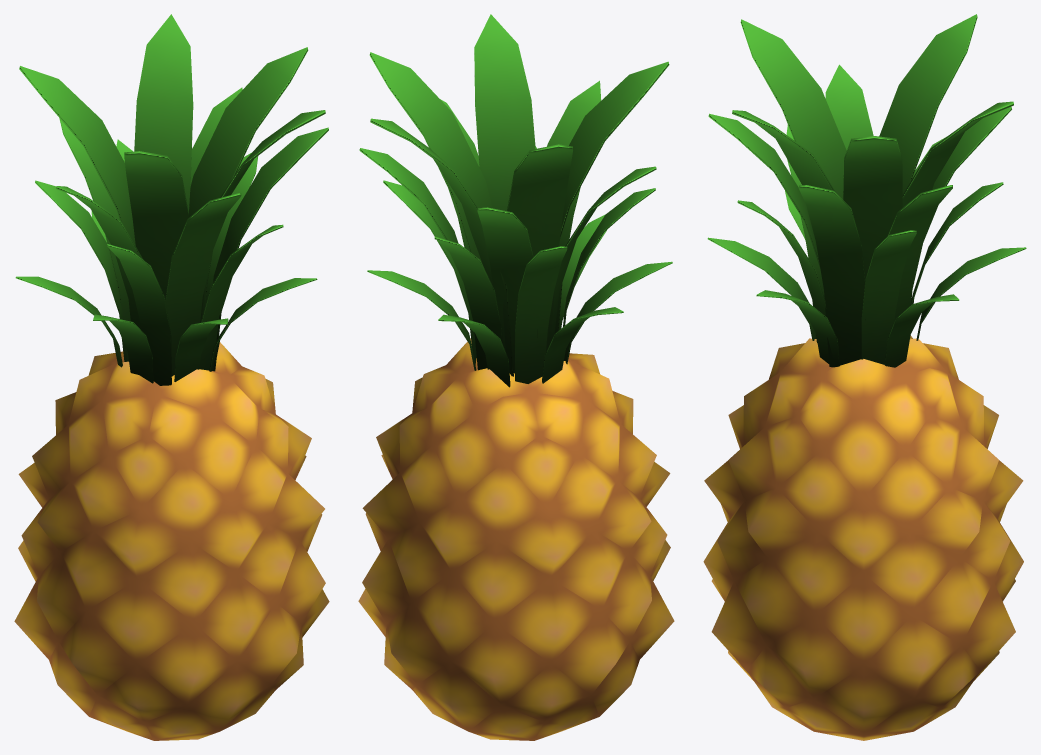
File: Pineapple.fbx
3 views of the same model, side by side, from view 1: azimuth 30°, elevation 25°; view 2: azimuth 150°, elevation 25°; view 3: azimuth 270°, elevation 25° (orthographic). The views are drawn at different scales.
Visible parts, largest first — view 1: Pineapple; view 2: Pineapple; view 3: Pineapple.
Part boxes in pixels (box(x1,y1,x2,y2)): Pineapple: box(14, 14, 329, 740); Pineapple: box(358, 14, 674, 740); Pineapple: box(703, 14, 1026, 740).
Size of the model in its own units: 0.5999 by 1.34 by 0.5908.
Materials: 1 (1 with a texture image).
